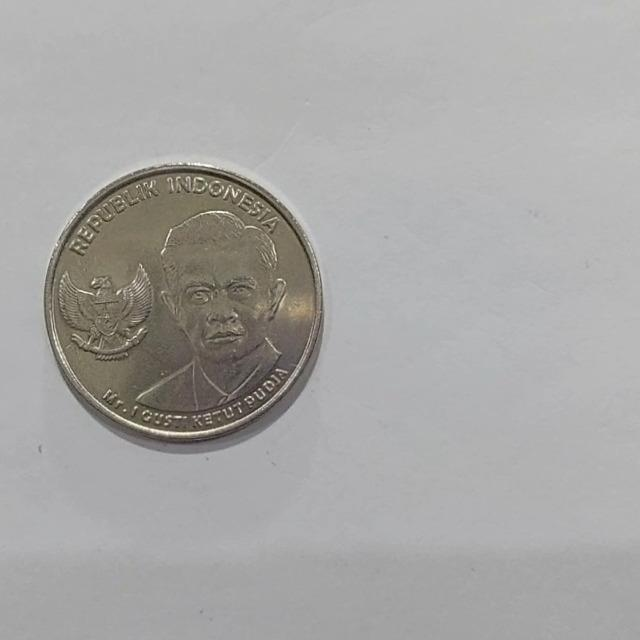Rp100: (42, 160, 324, 448), (130, 206, 291, 416)
